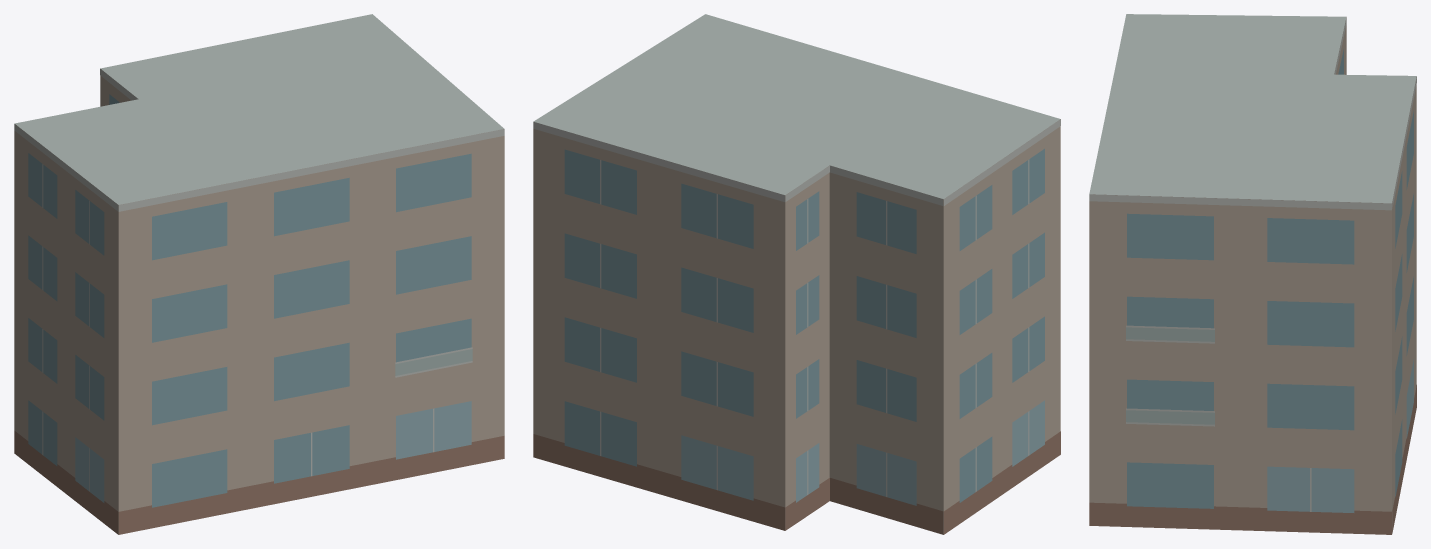
File: survey-upis-33000895.glb
The picture shows the model from 3 angles, left to right: view 1: azimuth 30°, elevation 25°; view 2: azimuth 150°, elevation 25°; view 3: azimuth 270°, elevation 25°; orthographic projection.
Visible parts, largest first — view 1: survey-upis-33000895.tmp; view 2: survey-upis-33000895.tmp; view 3: survey-upis-33000895.tmp.
Boxes of the visible parts, x1=… form: survey-upis-33000895.tmp: x1=14, y1=14, x2=504, y2=534; survey-upis-33000895.tmp: x1=533, y1=14, x2=1060, y2=534; survey-upis-33000895.tmp: x1=1089, y1=14, x2=1416, y2=534.
Bounding box in the file's own units: 14.22 × 11.6 × 10.4.
